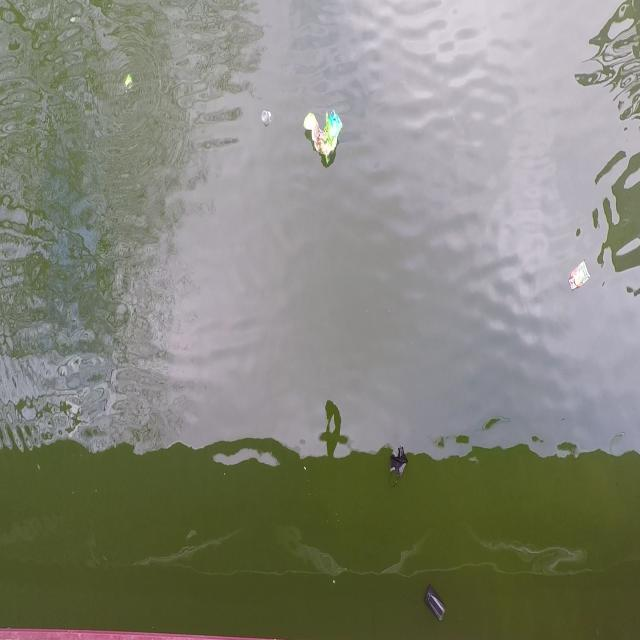Autre plastique: (423, 582, 449, 622)
Bouteille plastique: (261, 109, 274, 128)
Non plastique: (387, 446, 408, 490)
Sac plastique: (304, 103, 344, 165)
